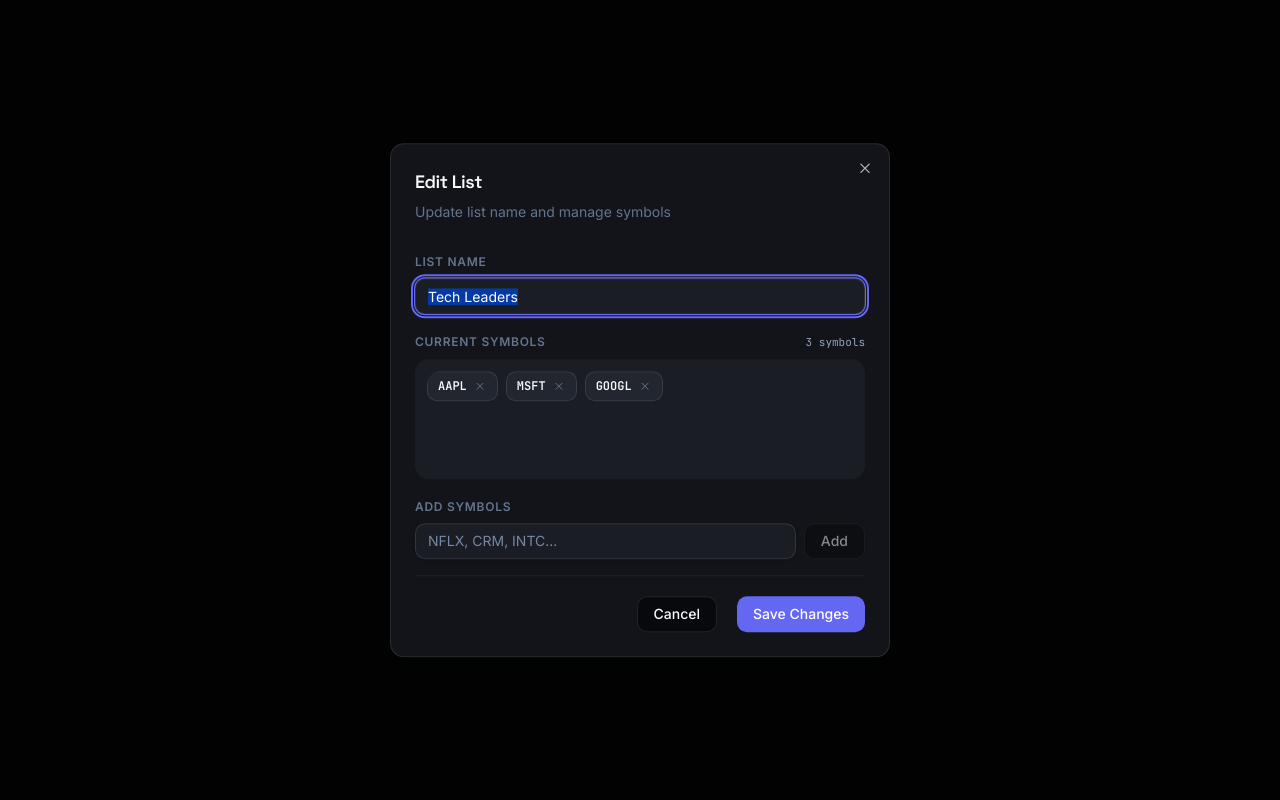
Test: EditListDialog › Symbol Removal › removes symbol when Remove button is clicked
The image size is (1280, 800).
Click the button named "remove aapl": (480, 386) left=473, top=379, right=487, bottom=393
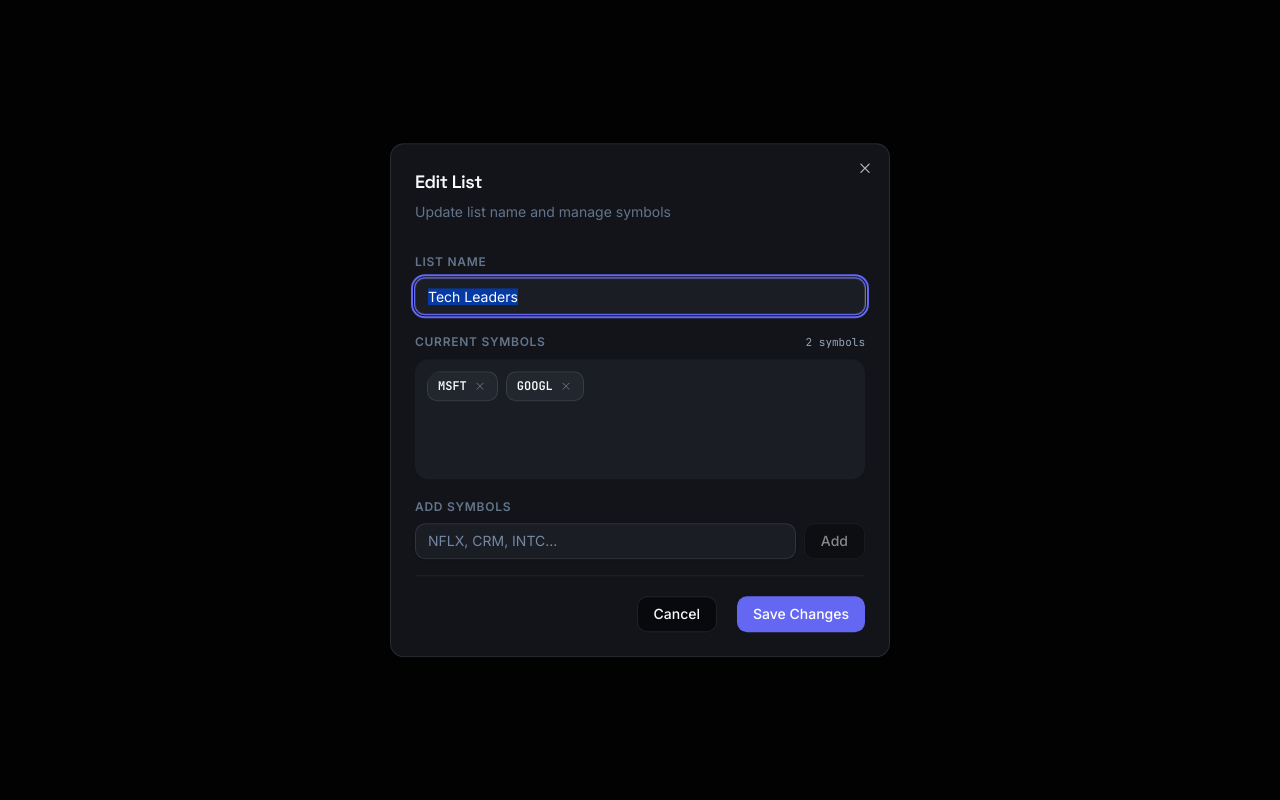
Check: the text "MSFT" is shown, box left=438, top=378, right=467, bottom=394
Check: the text "AAPL" is gone
